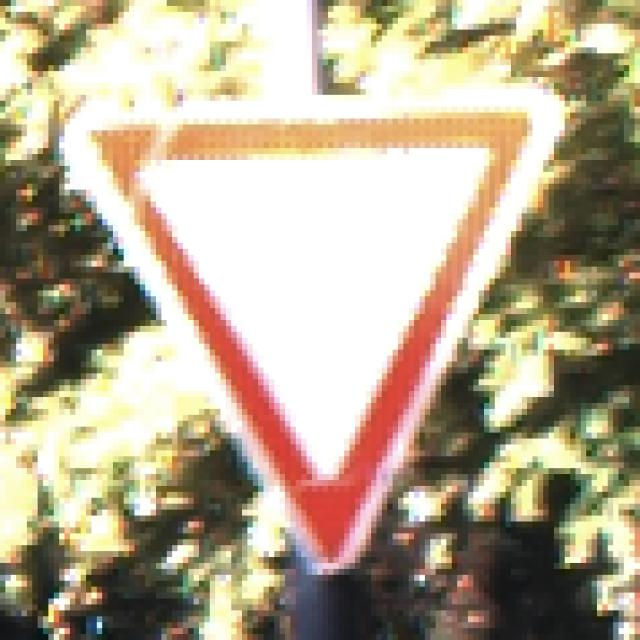Give Way: (55, 60, 582, 588)
